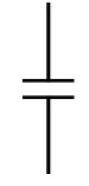Capacitor: (14, 60, 73, 113)
